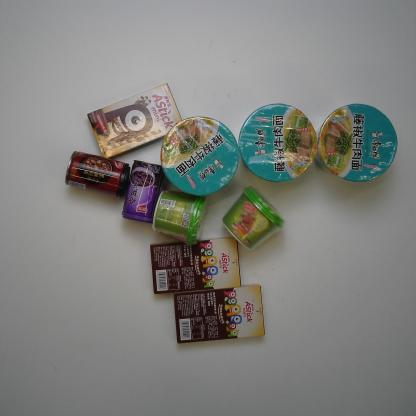Canned Food: (64, 149, 131, 201), (120, 158, 164, 227)
Dessert: (85, 82, 185, 160), (172, 283, 267, 344), (149, 235, 243, 296)
Instant Drink: (221, 184, 287, 252), (151, 188, 209, 247)
Instant Noodles: (314, 102, 399, 186), (237, 101, 319, 185), (159, 116, 240, 198)
